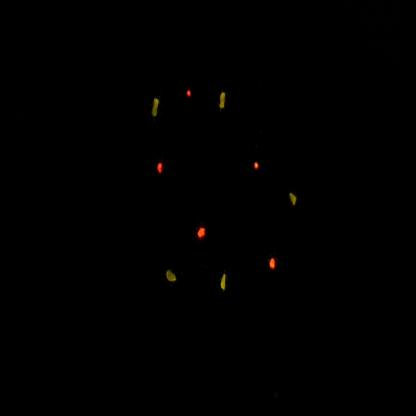PP: (141, 84, 173, 130), (279, 180, 310, 227), (161, 257, 184, 294), (214, 83, 235, 123), (214, 266, 234, 298)
PVC: (178, 77, 202, 113), (151, 150, 173, 189), (264, 245, 285, 283), (194, 215, 214, 253), (247, 149, 268, 182)
